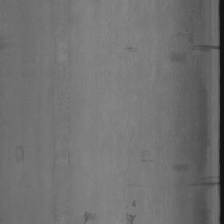crease: (48, 126, 76, 185), (52, 25, 72, 84)
